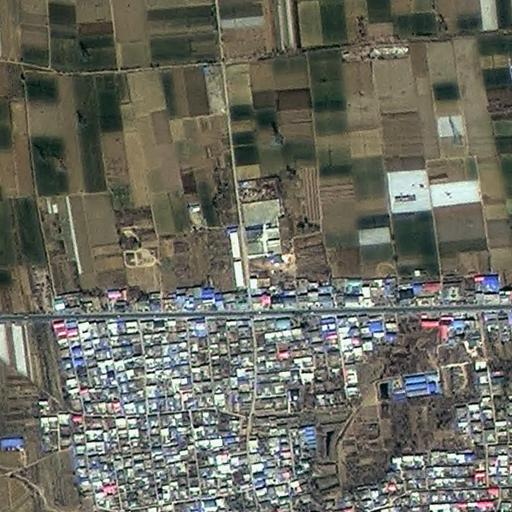school: (240, 196, 286, 259)
